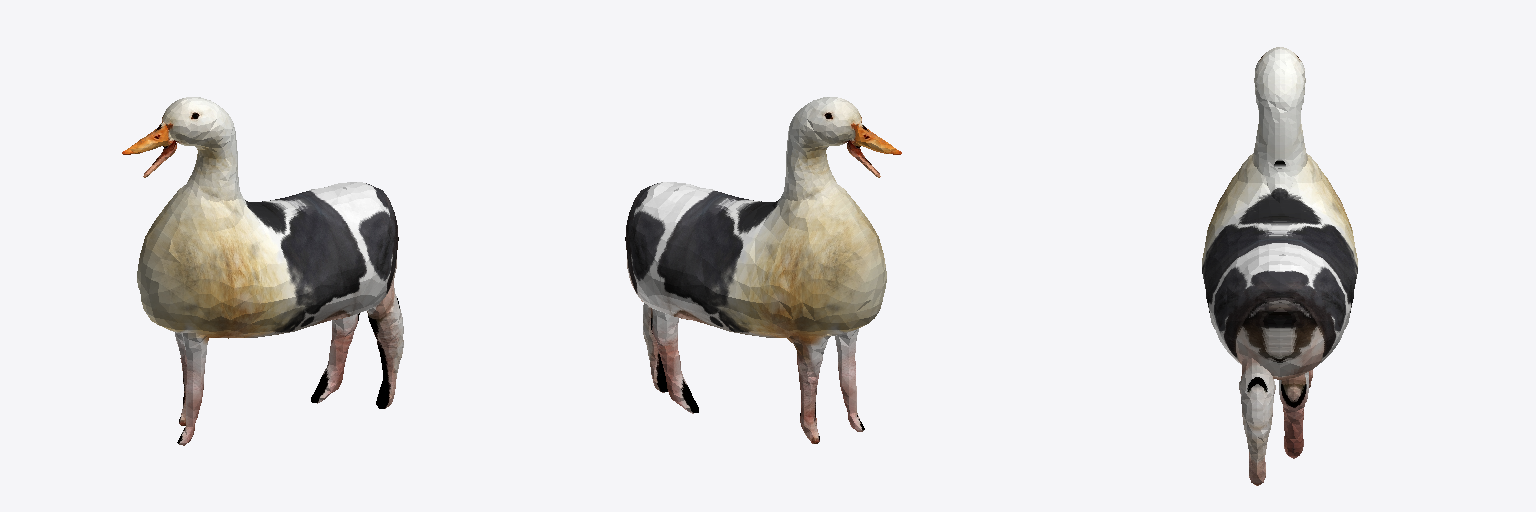
3 views of the same model, side by side, from view 1: azimuth 30°, elevation 25°; view 2: azimuth 150°, elevation 25°; view 3: azimuth 270°, elevation 25° (orthographic).
Bounding box in the file's own units: 1.46 × 1.81 × 0.7394.
Materials: 1 (1 with a texture image).